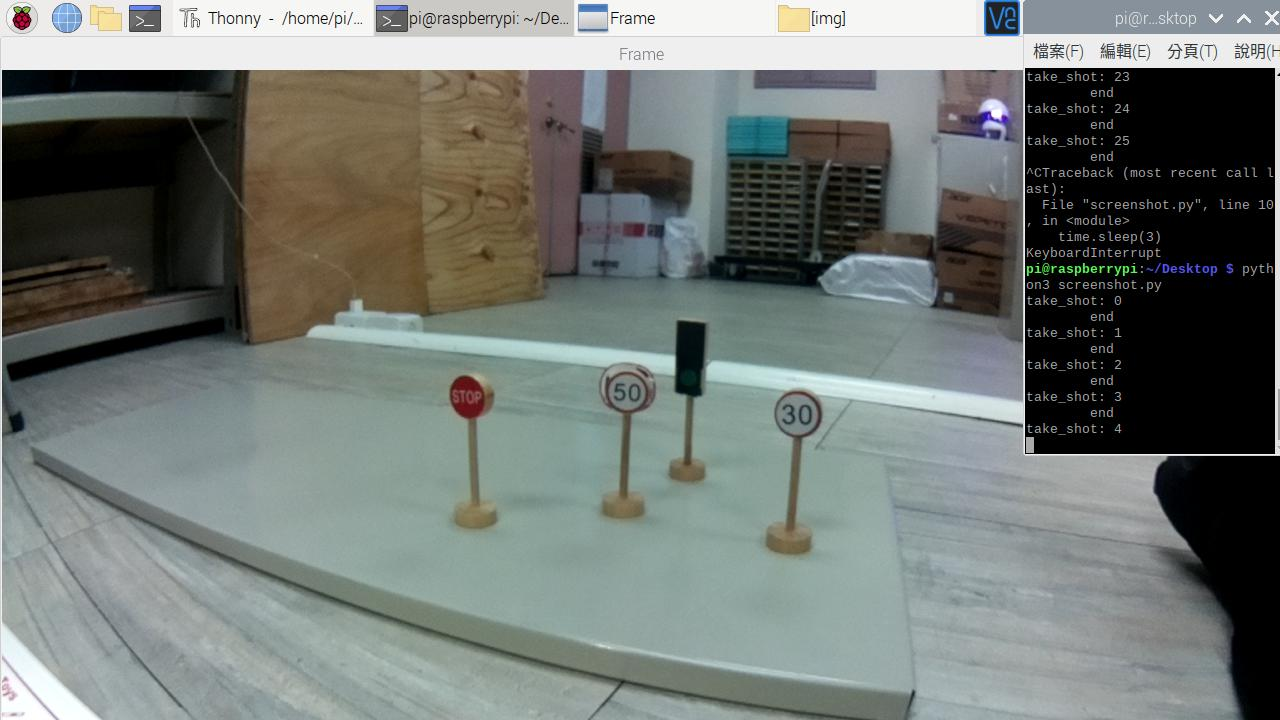Green: (674, 321, 702, 399)
Speed30: (777, 390, 822, 433)
Speed50: (599, 356, 651, 416)
Stop: (448, 377, 487, 418)
